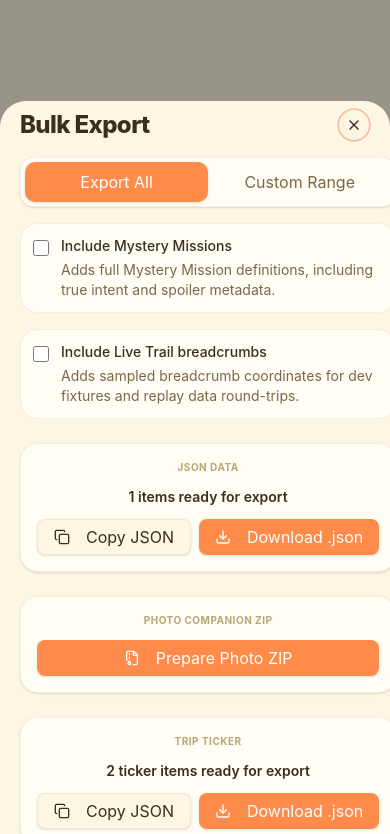
Test: BulkExportSheet › tells the user to narrow the range when other data already fills the cap
Click the checkbox labelled "Include Live Trail breadcrumbs".
click(41, 354)  # box [33,346,49,362]
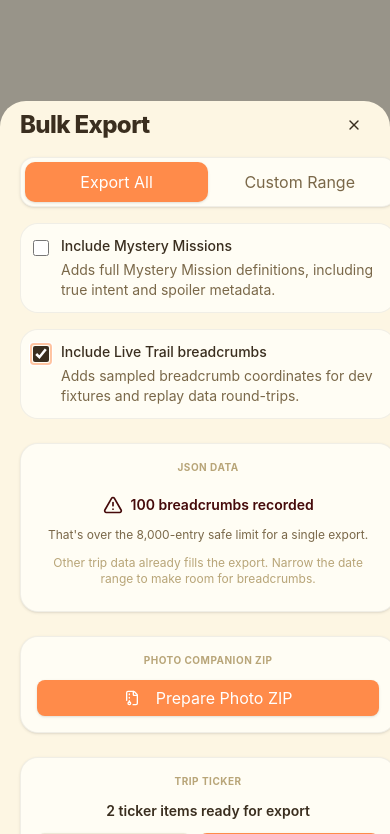
Expected: the text "Narrow the date range to make room" is shown, [53,555,363,586]
